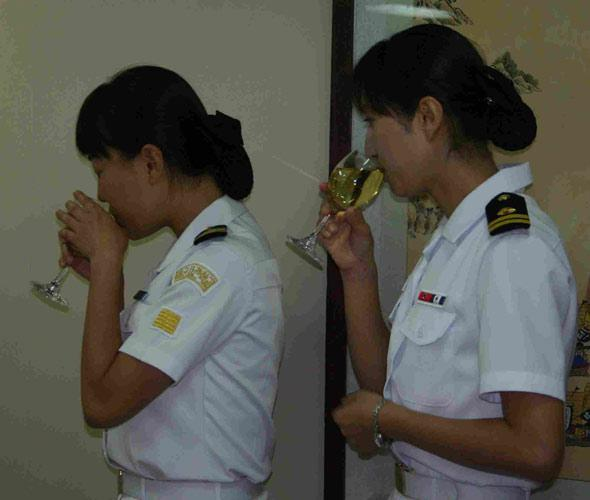person: (317, 26, 579, 500)
